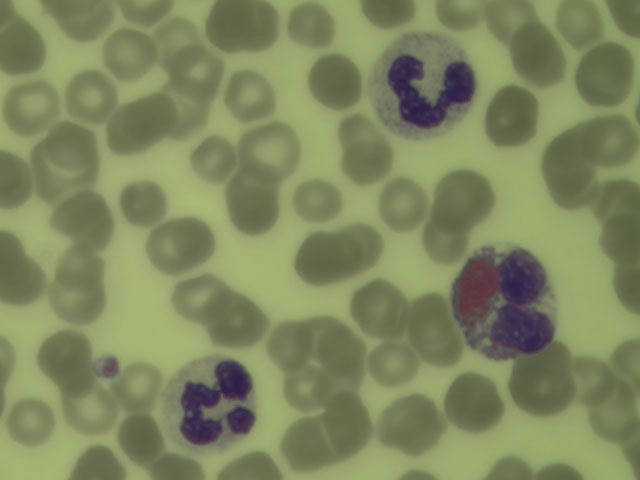Platelets: (95, 353, 120, 379)
RBC: (32, 136, 103, 197), (439, 370, 508, 432), (577, 44, 635, 107), (509, 359, 573, 415), (381, 398, 444, 453), (59, 386, 122, 440), (237, 123, 298, 178), (511, 24, 562, 83), (542, 136, 602, 186), (227, 178, 273, 238), (57, 191, 111, 242), (357, 282, 408, 336), (158, 78, 205, 136), (169, 49, 222, 100), (486, 87, 534, 143), (5, 82, 58, 132), (292, 232, 346, 281), (438, 172, 492, 221), (589, 113, 640, 164), (1, 18, 45, 77), (588, 388, 640, 437), (53, 276, 107, 323), (367, 339, 421, 386), (312, 54, 360, 106), (558, 1, 607, 51), (416, 215, 468, 262), (557, 118, 603, 171), (339, 131, 389, 179), (227, 75, 277, 121), (590, 175, 640, 221), (146, 225, 191, 276), (235, 2, 279, 54), (40, 332, 93, 374), (486, 1, 543, 40), (316, 416, 364, 462), (121, 180, 170, 225), (173, 278, 228, 318), (335, 227, 385, 271), (214, 451, 289, 480), (119, 416, 167, 461), (278, 365, 326, 410), (288, 7, 337, 51), (305, 316, 344, 371), (325, 395, 373, 439), (381, 180, 424, 229), (57, 249, 108, 290), (573, 353, 614, 404), (208, 1, 255, 45), (282, 423, 326, 470), (417, 320, 456, 373), (70, 73, 113, 121), (3, 256, 46, 304), (173, 216, 219, 260), (192, 134, 237, 178), (48, 121, 95, 163), (105, 32, 152, 74), (134, 91, 176, 137), (11, 397, 52, 444), (263, 321, 306, 364), (295, 182, 342, 221), (611, 255, 640, 318), (214, 302, 259, 342), (601, 216, 640, 262), (319, 332, 362, 373), (560, 170, 604, 210), (154, 22, 197, 62), (1, 151, 30, 210), (316, 368, 362, 405), (359, 1, 423, 27), (110, 107, 148, 150), (61, 7, 112, 39), (122, 364, 159, 408), (437, 1, 488, 32), (414, 291, 451, 332), (482, 452, 532, 480), (78, 445, 118, 478), (613, 337, 640, 383), (155, 457, 205, 480), (119, 1, 174, 21), (338, 116, 376, 144), (1, 232, 24, 275), (622, 418, 640, 470), (539, 463, 589, 480)
WBC: (369, 32, 479, 137), (455, 251, 557, 356), (165, 351, 257, 450)
